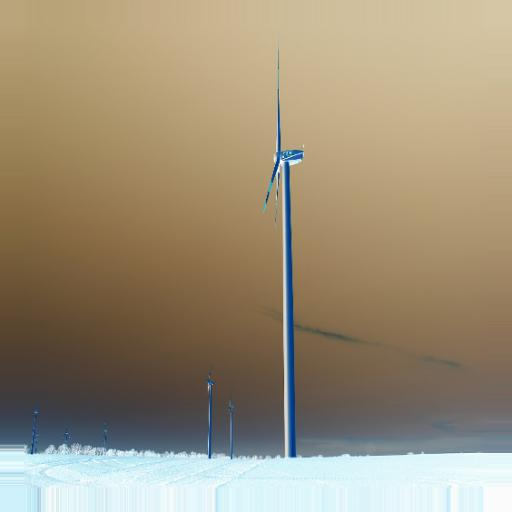wind turbine: (261, 38, 307, 458), (195, 364, 220, 459)
